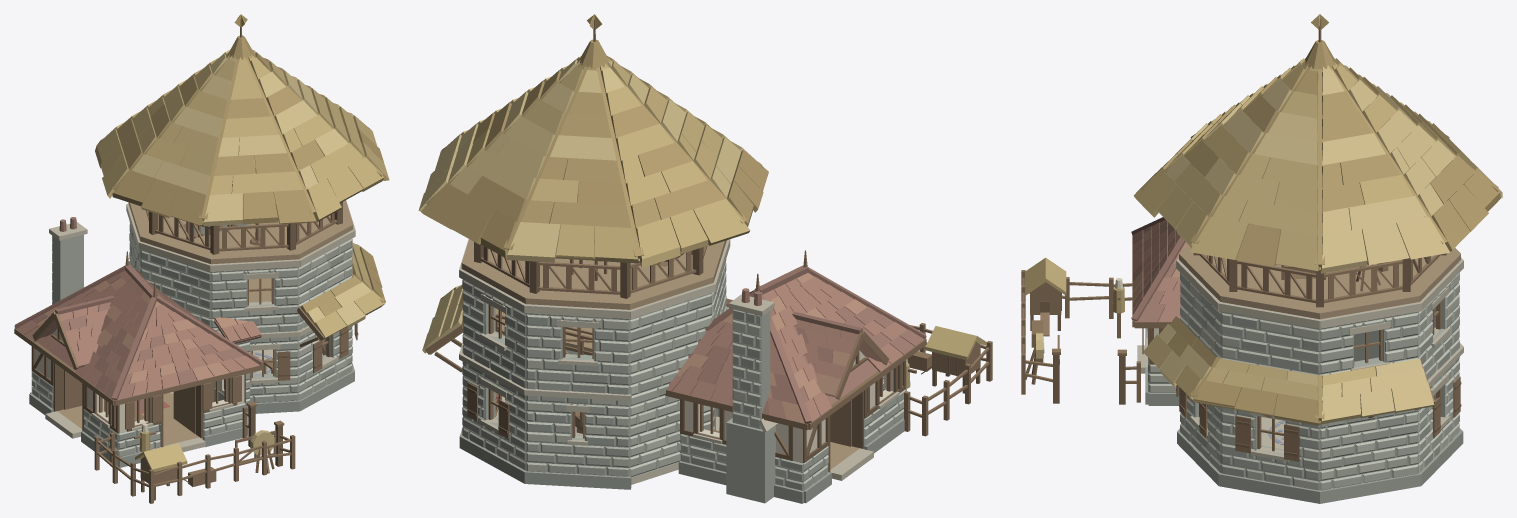
File: mage.glb
3 views of the same model, side by side, from view 1: azimuth 30°, elevation 25°; view 2: azimuth 150°, elevation 25°; view 3: azimuth 270°, elevation 25° (orthographic). The views are drawn at different scales.
Parts seen in each view (by area): view 1: Mage_RoofThatch, Mage_Roof, Mage_Shell, Mage_UpperShell, Mage_Yard, Mage_UpperFloorObservatory, Mage_UpperGallery, Mage_FloorGround, Mage_Door, Mage_UpperFloorLibrary; view 2: Mage_RoofThatch, Mage_Roof, Mage_Shell, Mage_UpperShell, Mage_UpperFloorObservatory, Mage_Yard, Mage_UpperGallery, Mage_FloorGround, Mage_Door; view 3: Mage_RoofThatch, Mage_Shell, Mage_UpperShell, Mage_Roof, Mage_UpperFloorObservatory, Mage_Yard, Mage_UpperGallery, Mage_FloorGround.
Boxes of the visible parts, bbox=[...] form: Mage_RoofThatch: bbox=[95, 49, 389, 339]; Mage_Roof: bbox=[14, 14, 384, 405]; Mage_Shell: bbox=[29, 323, 358, 467]; Mage_UpperShell: bbox=[126, 200, 355, 332]; Mage_Yard: bbox=[94, 401, 295, 503]; Mage_UpperFloorObservatory: bbox=[128, 200, 353, 264]; Mage_UpperGallery: bbox=[146, 202, 342, 254]; Mage_FloorGround: bbox=[45, 340, 322, 451]; Mage_Door: bbox=[64, 370, 195, 433]; Mage_UpperFloorLibrary: bbox=[249, 278, 271, 302]; Mage_RoofThatch: bbox=[418, 56, 768, 353]; Mage_Roof: bbox=[425, 14, 926, 503]; Mage_Shell: bbox=[459, 307, 906, 503]; Mage_UpperShell: bbox=[459, 239, 730, 395]; Mage_UpperFloorObservatory: bbox=[461, 239, 726, 309]; Mage_Yard: bbox=[904, 323, 992, 436]; Mage_UpperGallery: bbox=[474, 242, 707, 298]; Mage_FloorGround: bbox=[496, 396, 873, 484]; Mage_Door: bbox=[830, 400, 851, 446]; Mage_RoofThatch: bbox=[1133, 58, 1502, 425]; Mage_Shell: bbox=[1142, 328, 1463, 503]; Mage_UpperShell: bbox=[1176, 257, 1463, 379]; Mage_Roof: bbox=[1131, 14, 1498, 424]; Mage_UpperFloorObservatory: bbox=[1179, 244, 1460, 319]; Mage_Yard: bbox=[1021, 257, 1140, 404]; Mage_UpperGallery: bbox=[1193, 253, 1446, 307]; Mage_FloorGround: bbox=[1137, 345, 1285, 449].
Bounding box in the file's own units: 14.65 × 14.43 × 14.62.
